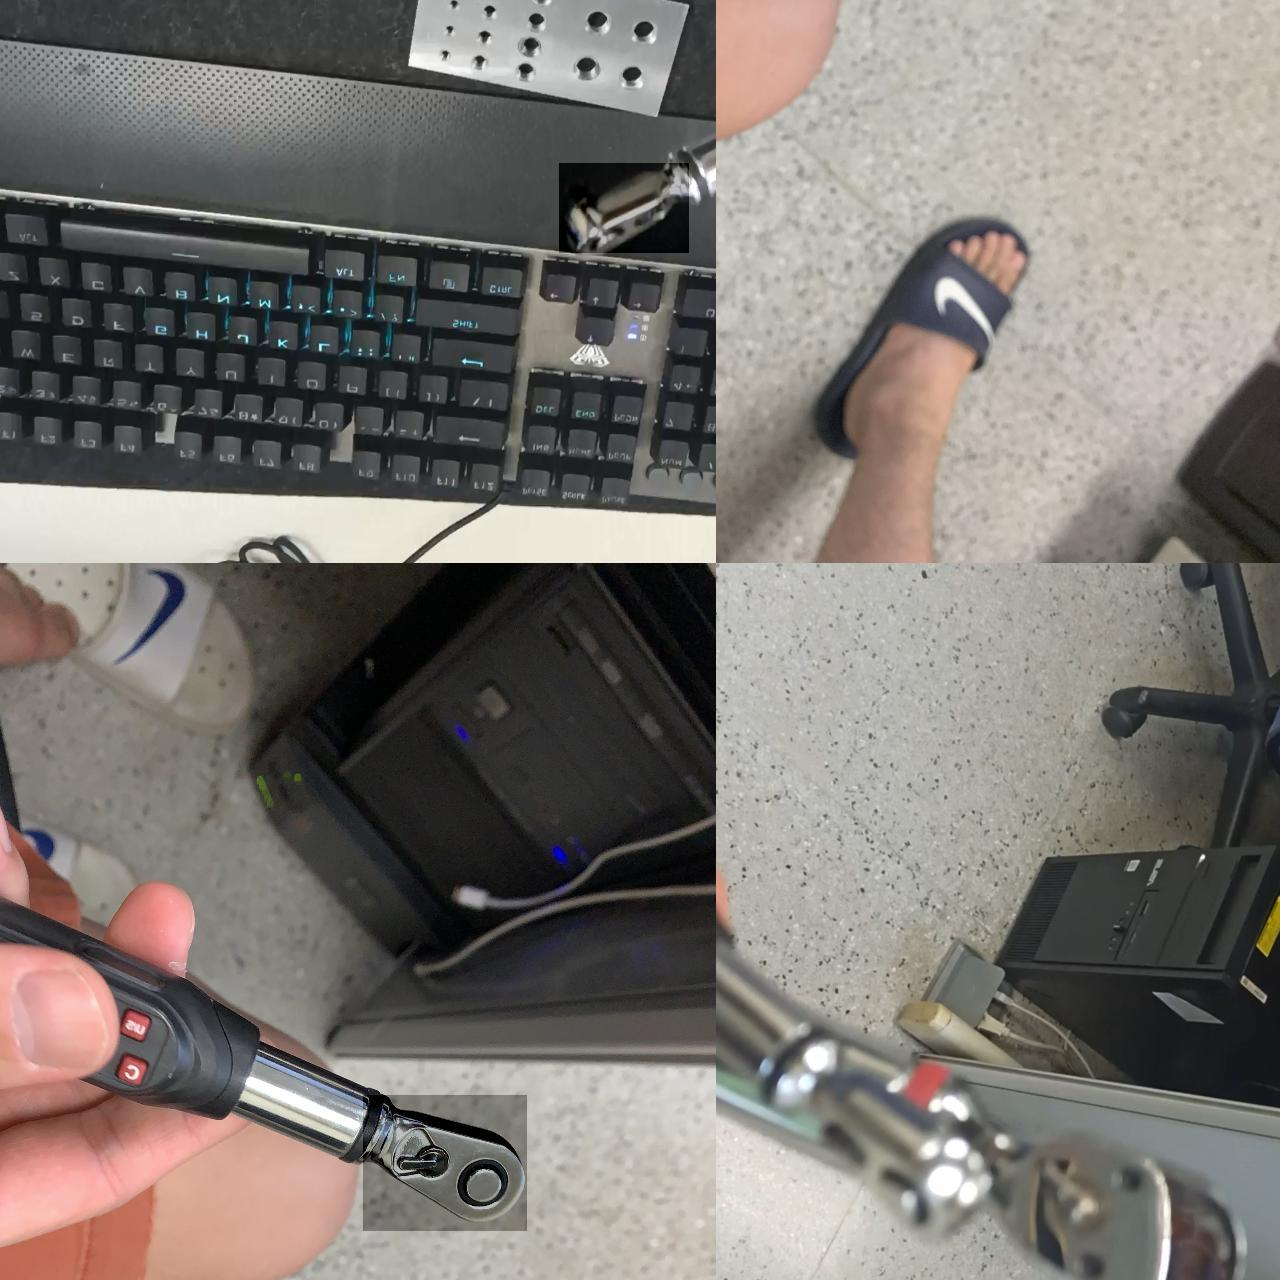Tool: (362, 1094, 526, 1230), (558, 162, 688, 252)
